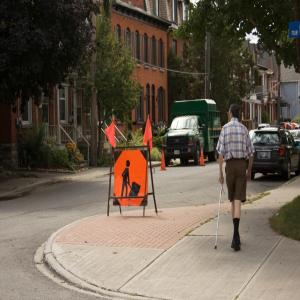Vehicle-registration-plate: (261, 153, 269, 160), (175, 150, 180, 156)
